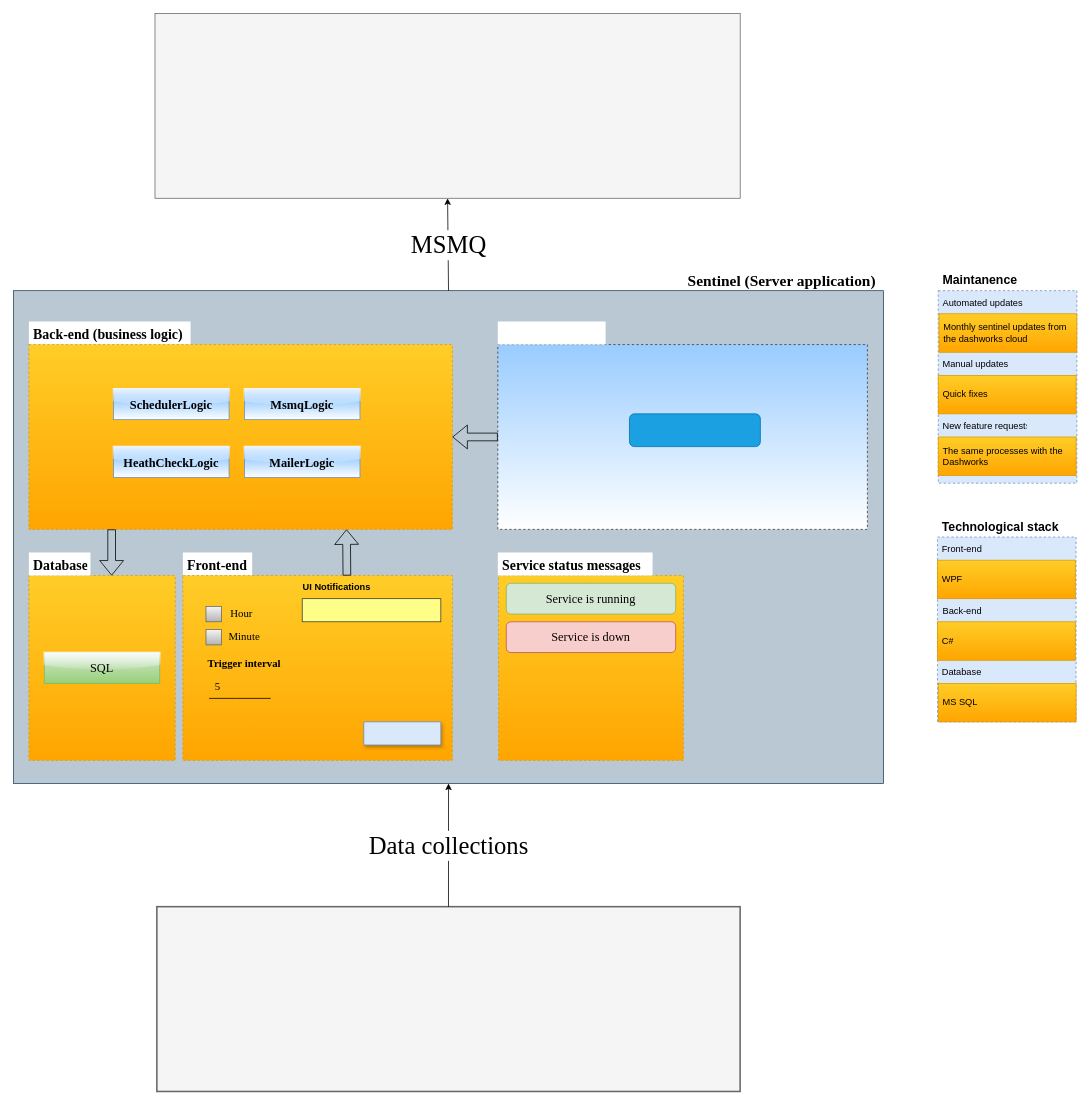
This 1090x1106 diagram has some shape labels left out. The centre of each missing label's shape, as x and y in pixels:
Client network: (448,999)
Dashworks cloud: (447,105)
Save: (402,734)
Service status messeges: (371,610)
Windows service: (551,332)
Worker: (694,430)
